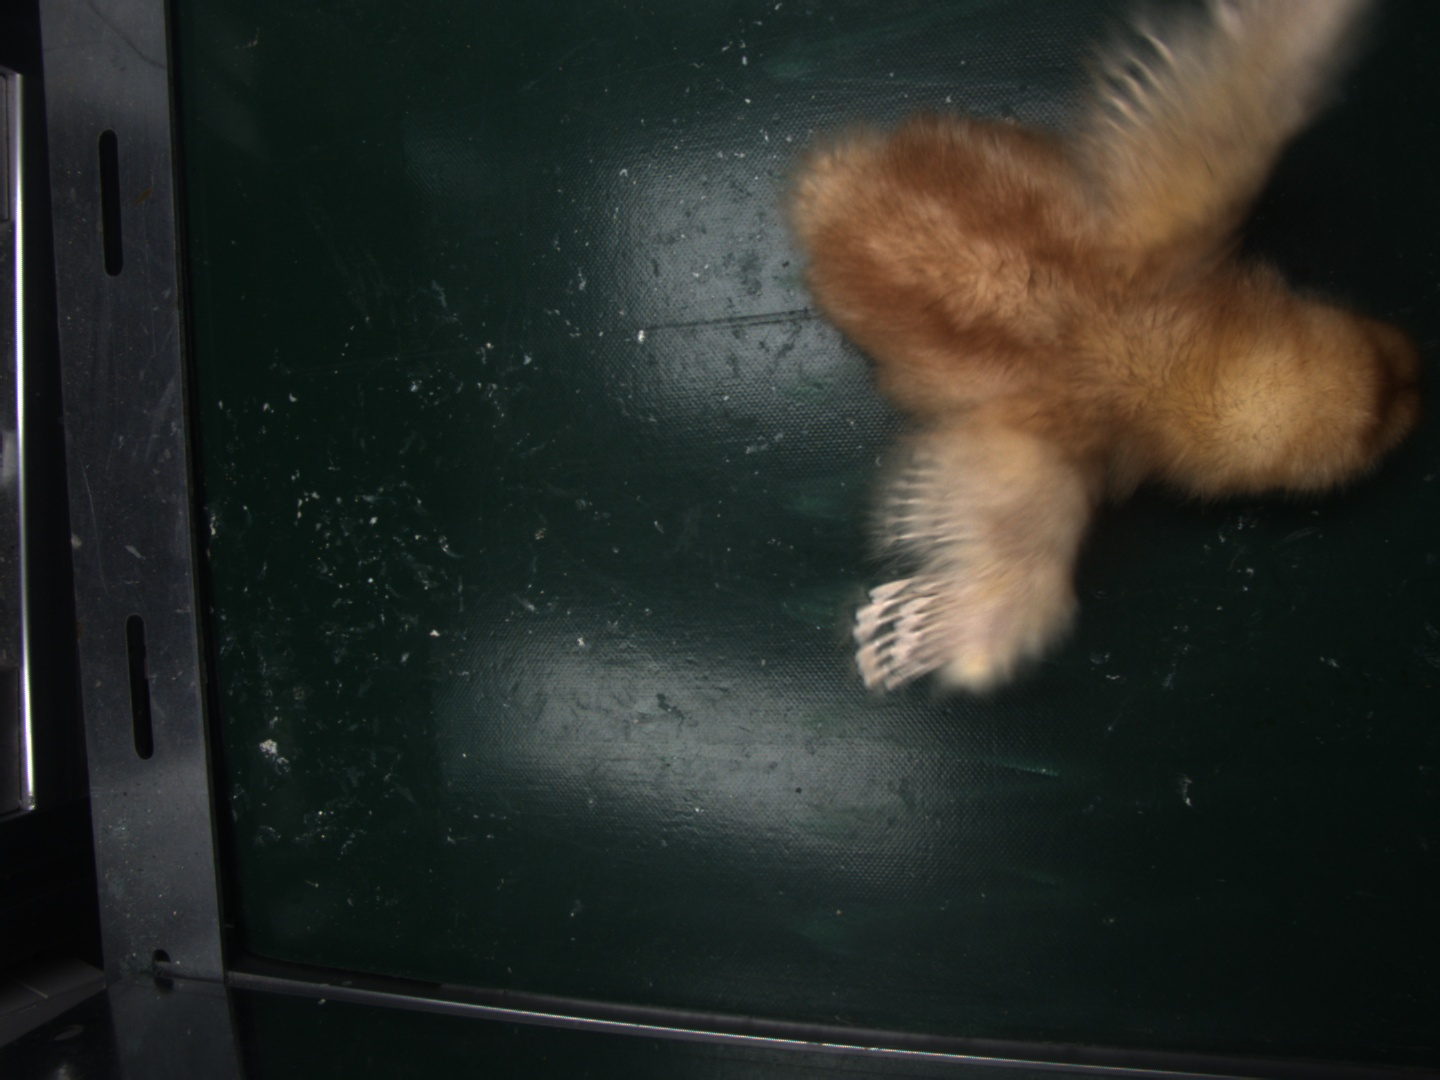female: (857, 579, 955, 692)
